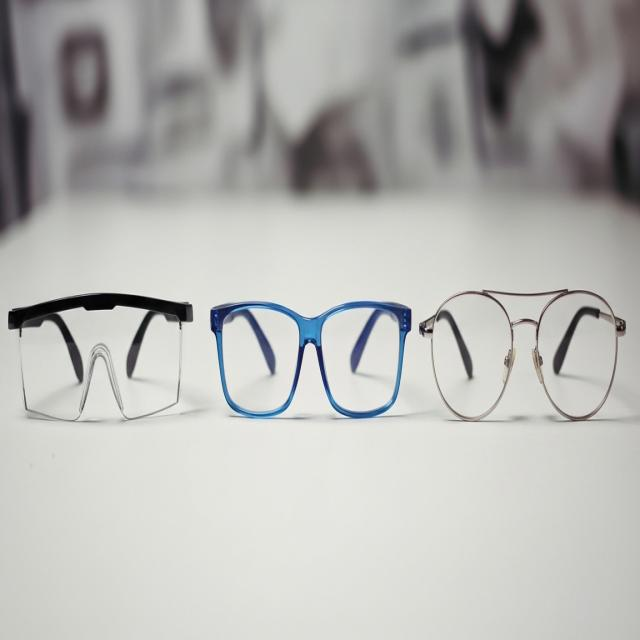oculos-epi: (9, 293, 192, 419)
sem_oculos: (421, 290, 625, 419), (210, 301, 410, 417)
